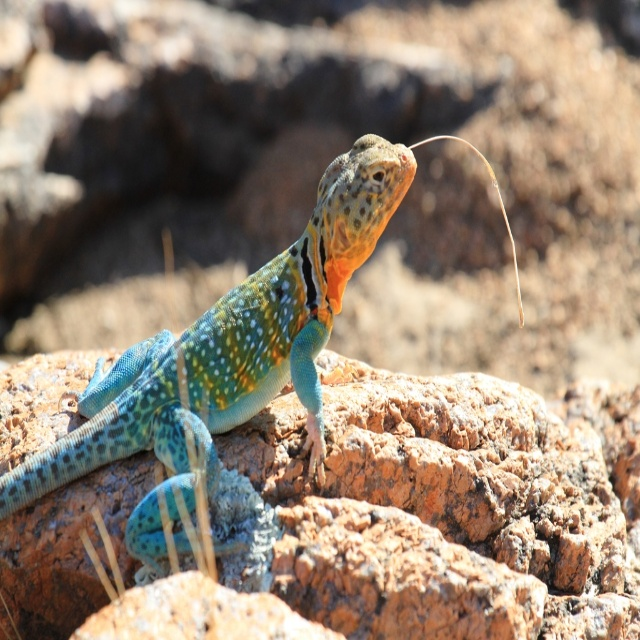Lizard: (1, 128, 523, 561)
